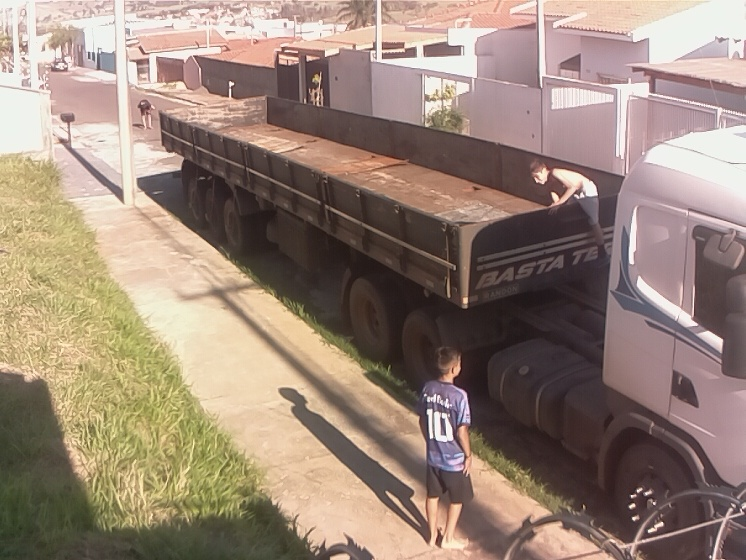person: (417, 343, 478, 552), (527, 158, 615, 270), (135, 94, 157, 133)
